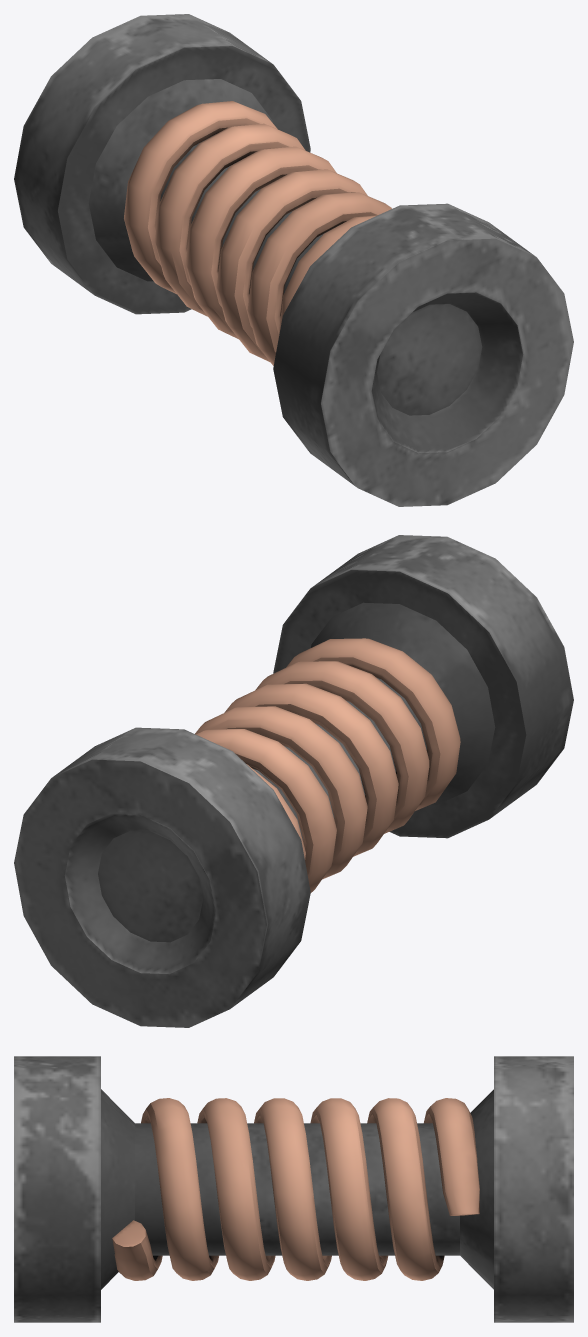
The model's file is Coil.fbx.
3 views of the same model, one above another, from view 1: azimuth 30°, elevation 25°; view 2: azimuth 150°, elevation 25°; view 3: azimuth 270°, elevation 25° (orthographic). The views are drawn at different scales.
Visible parts, largest first — view 1: Coil.015; view 2: Coil.015; view 3: Coil.015.
Part boxes in pixels (x1=…): Coil.015: x1=14, y1=14, x2=573, y2=506; Coil.015: x1=14, y1=535, x2=573, y2=1027; Coil.015: x1=14, y1=1056, x2=573, y2=1322.
Size of the model in its own units: 8 by 8 by 16.79.
Materials: 1 (1 with a texture image).
